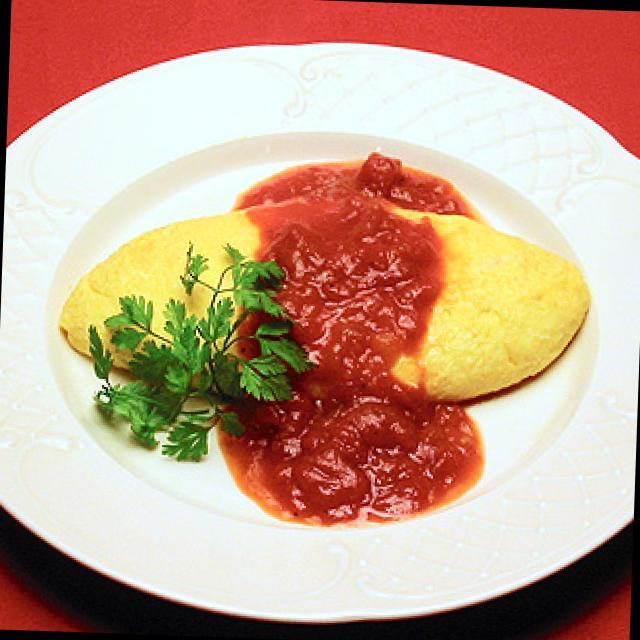Omelet: (42, 168, 606, 426)
